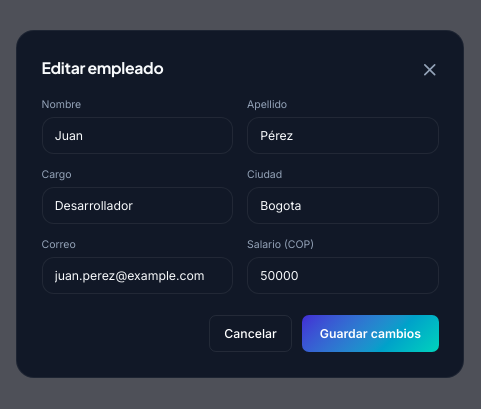
Test: EditEmployeeModal › muestra error de validación si se vacía un campo requerido
The width and height of the screenshot is (481, 409).
Clear the field labelled "Nombre": x=137, y=135 [42,117,233,154]
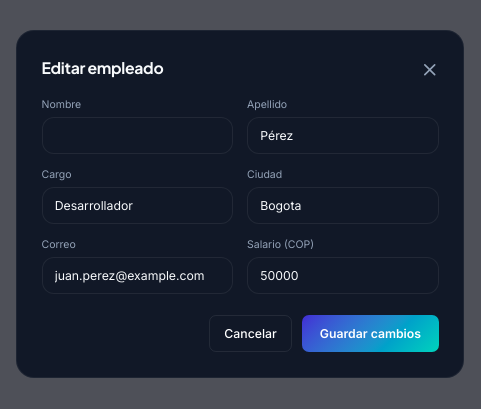
Submit the form, box [42,98,438,352]
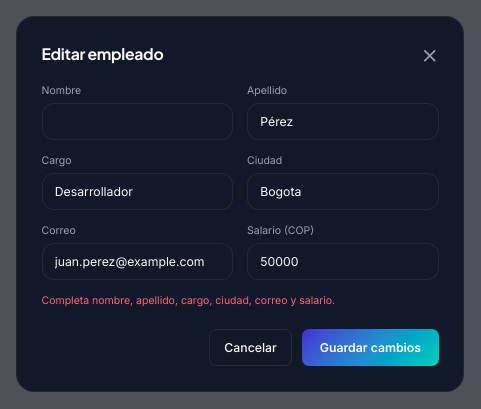
expect the text "Completa nombre, apellido, cargo, ciudad, correo y salario." is shown: met, box [42,294,335,307]
